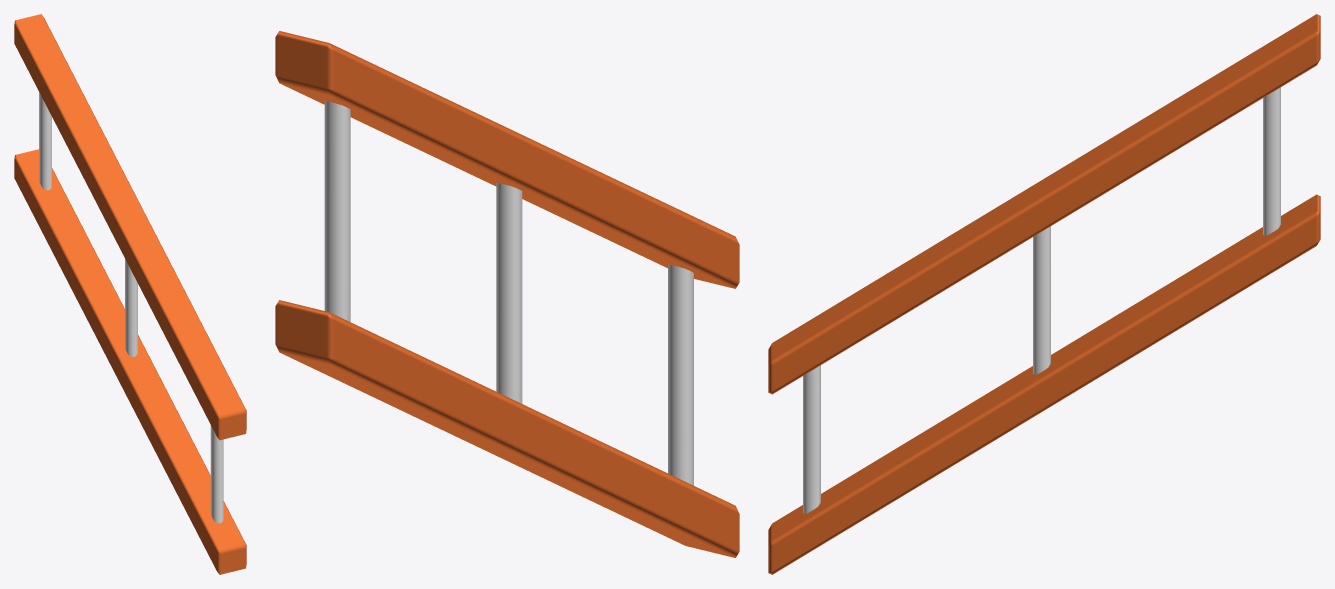
The model's file is Railing2.fbx.
3 renders of one model, left to right at view 1: azimuth 30°, elevation 25°; view 2: azimuth 150°, elevation 25°; view 3: azimuth 270°, elevation 25°, orthographic. The views are drawn at different scales.
Parts seen in each view (by area): view 1: Plane.002; view 2: Plane.002; view 3: Plane.002.
Part boxes in pixels (x1,y1,x2,y2): Plane.002: (14,14,246,574); Plane.002: (275,31,739,557); Plane.002: (768,14,1320,574).
Bounding box in the file's own units: 20 × 261 × 240.
